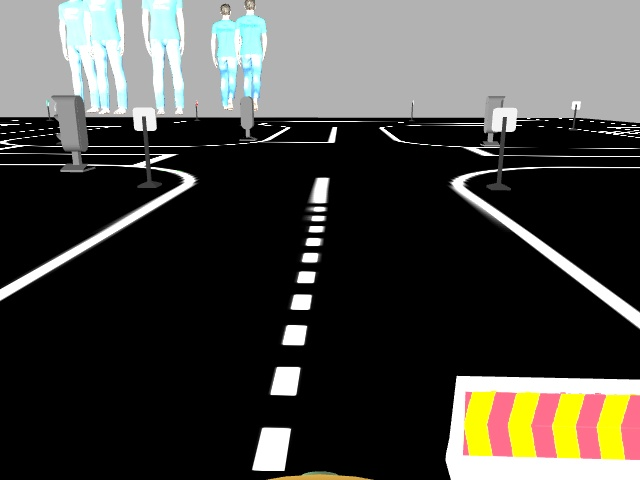ClosedRoadStand: (455, 375, 639, 465)
